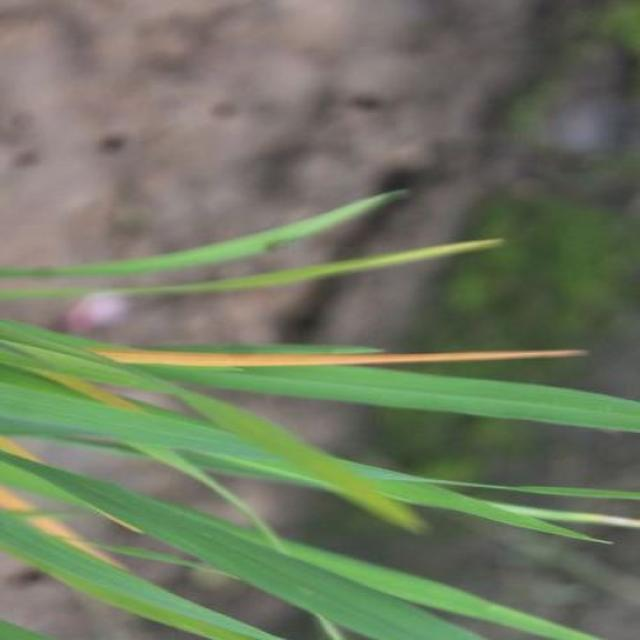Rice Tungro: (119, 338, 606, 372)
